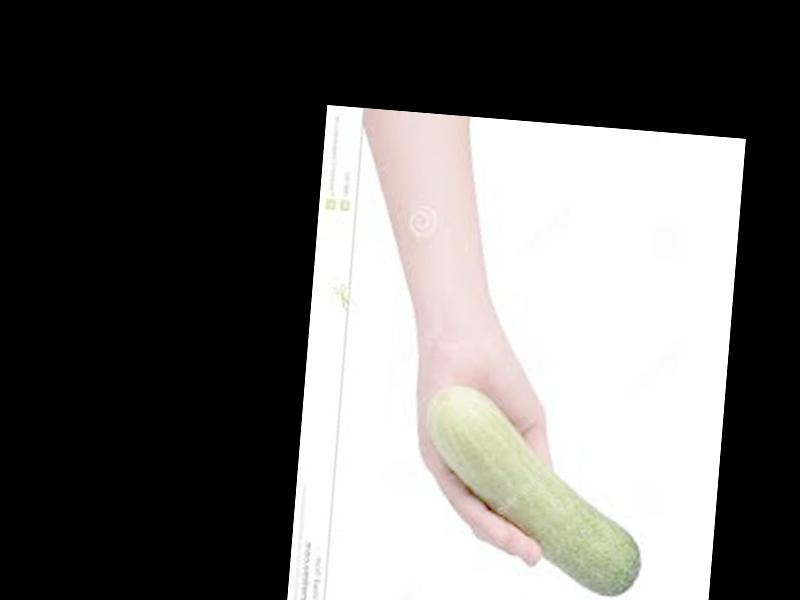Cucumber: (415, 383, 652, 595)
